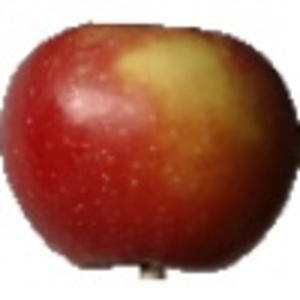maçã braeburn: (1, 21, 298, 273)
